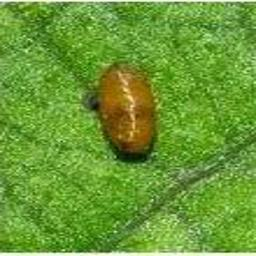liriomyza: (96, 61, 158, 159)
